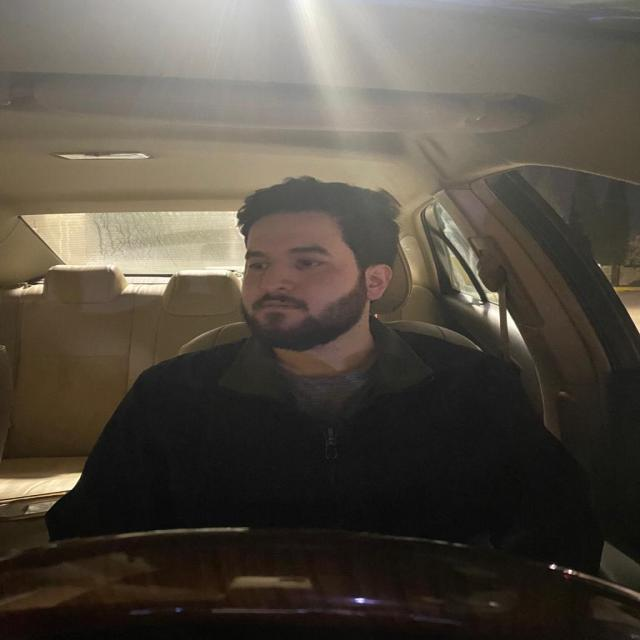person: (231, 168, 419, 362)
